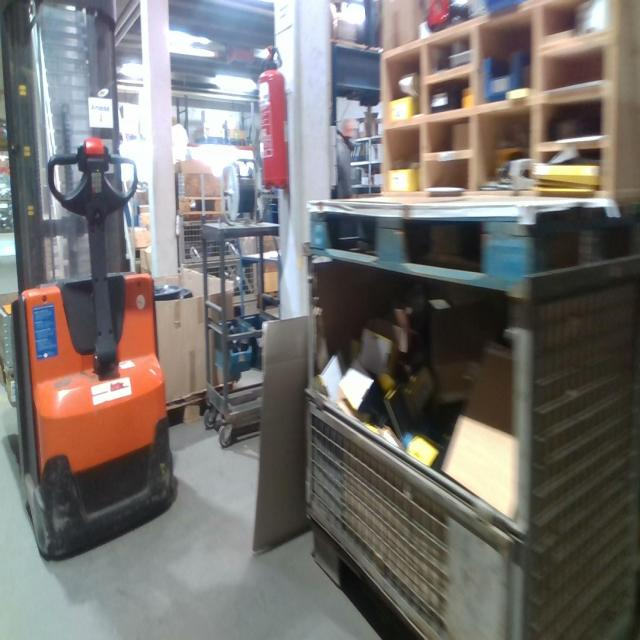pallet: (175, 192, 225, 219)
pallet_truck: (2, 3, 188, 569)
stillage: (298, 236, 639, 636), (174, 207, 263, 315)
